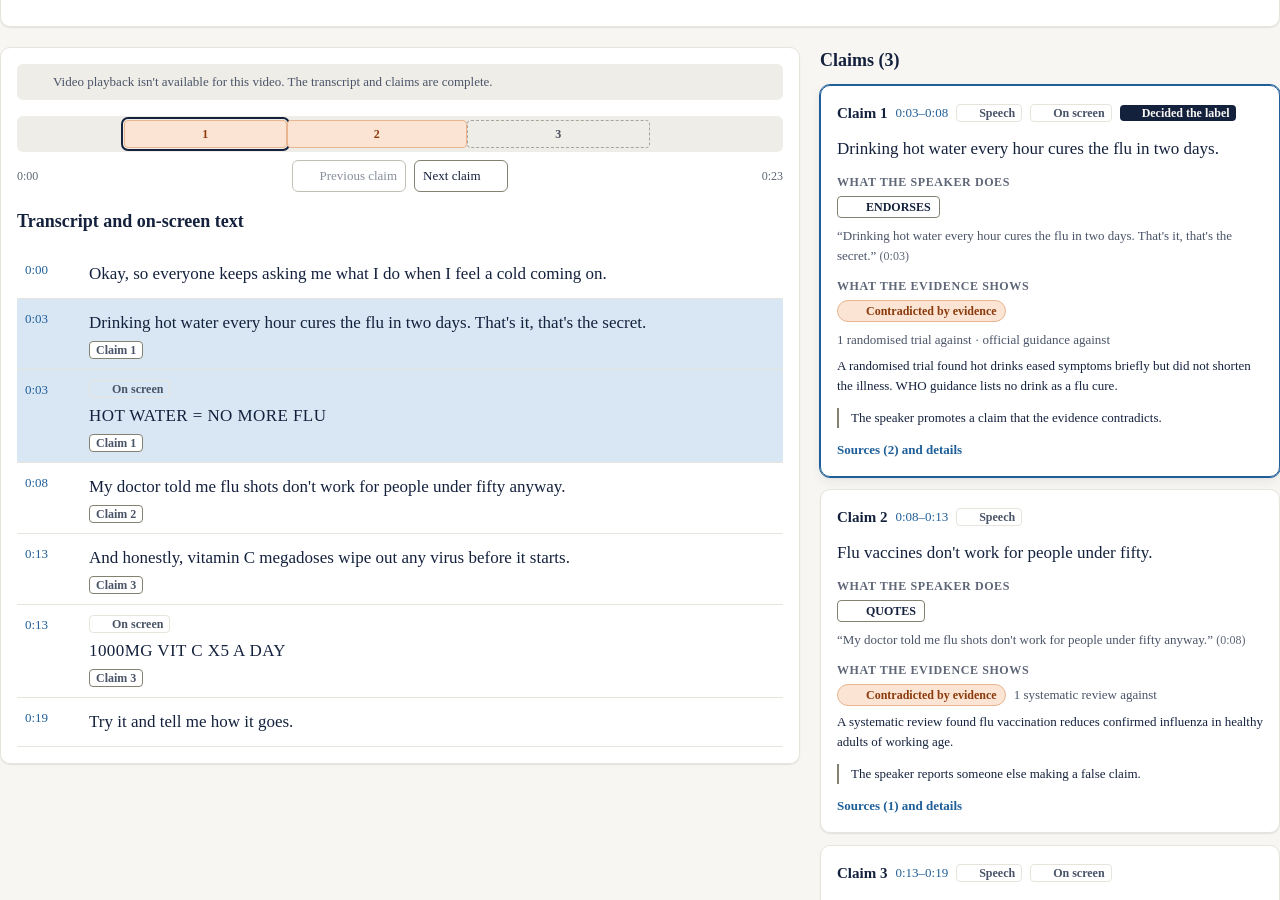
Scenario: ClaimDrawer › closes on Escape and clears the URL
The width and height of the screenshot is (1280, 900).
(page scrolled)
Step 1. Click the button "Sources (2) and details" → (909, 450), box [837,440,980,460]
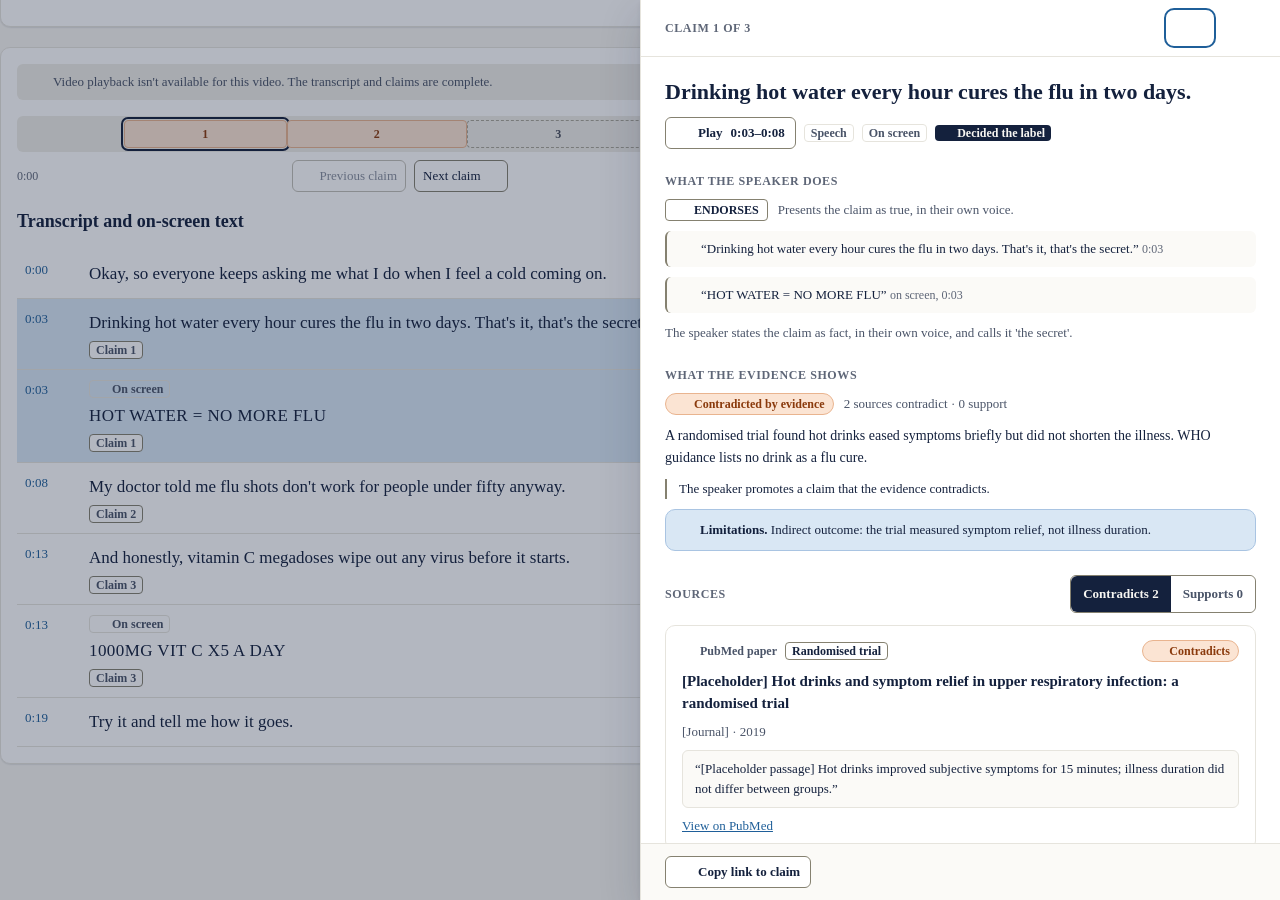
Step 2. Press Escape in the dialog, box [640,0,1279,899]
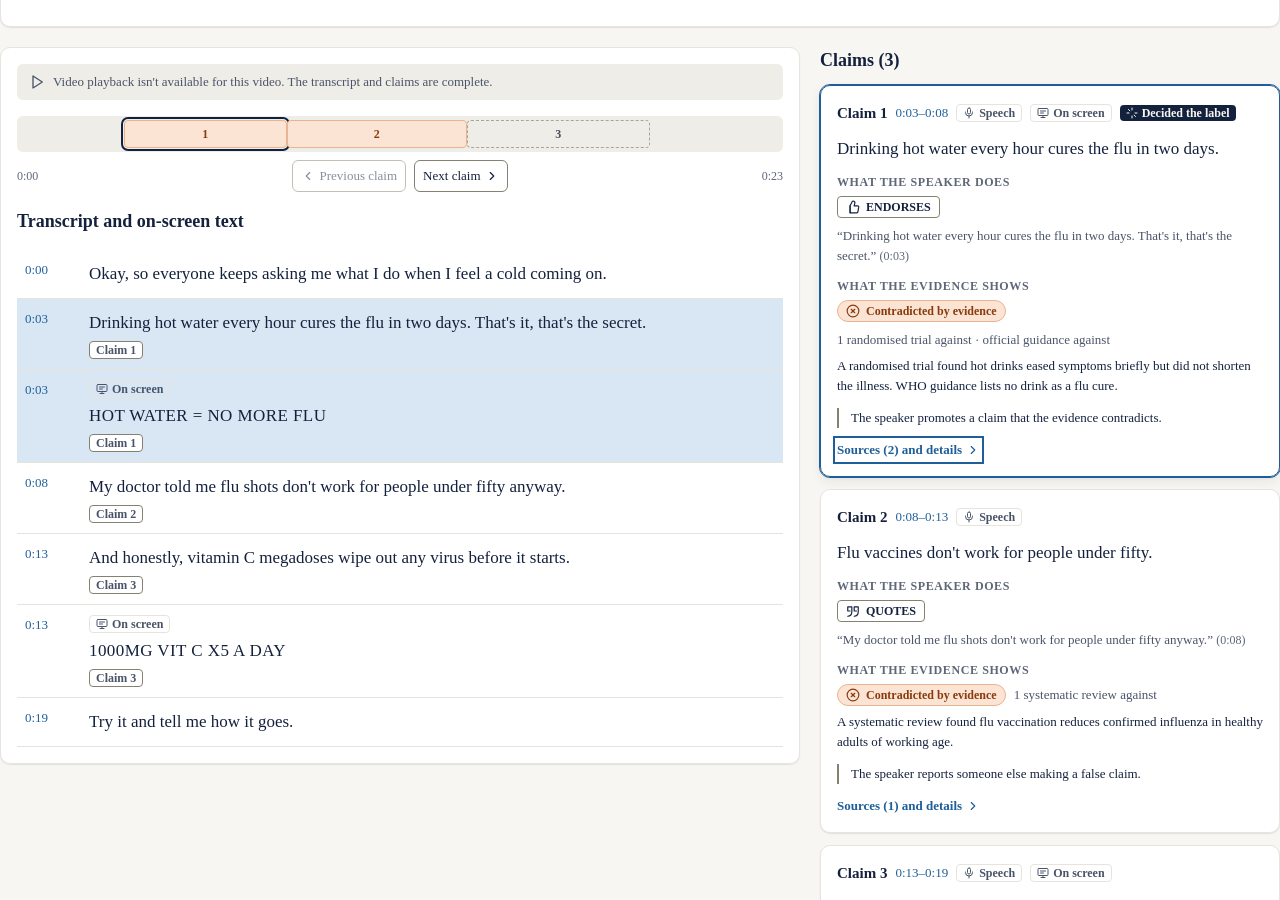
Now the dialog is gone
